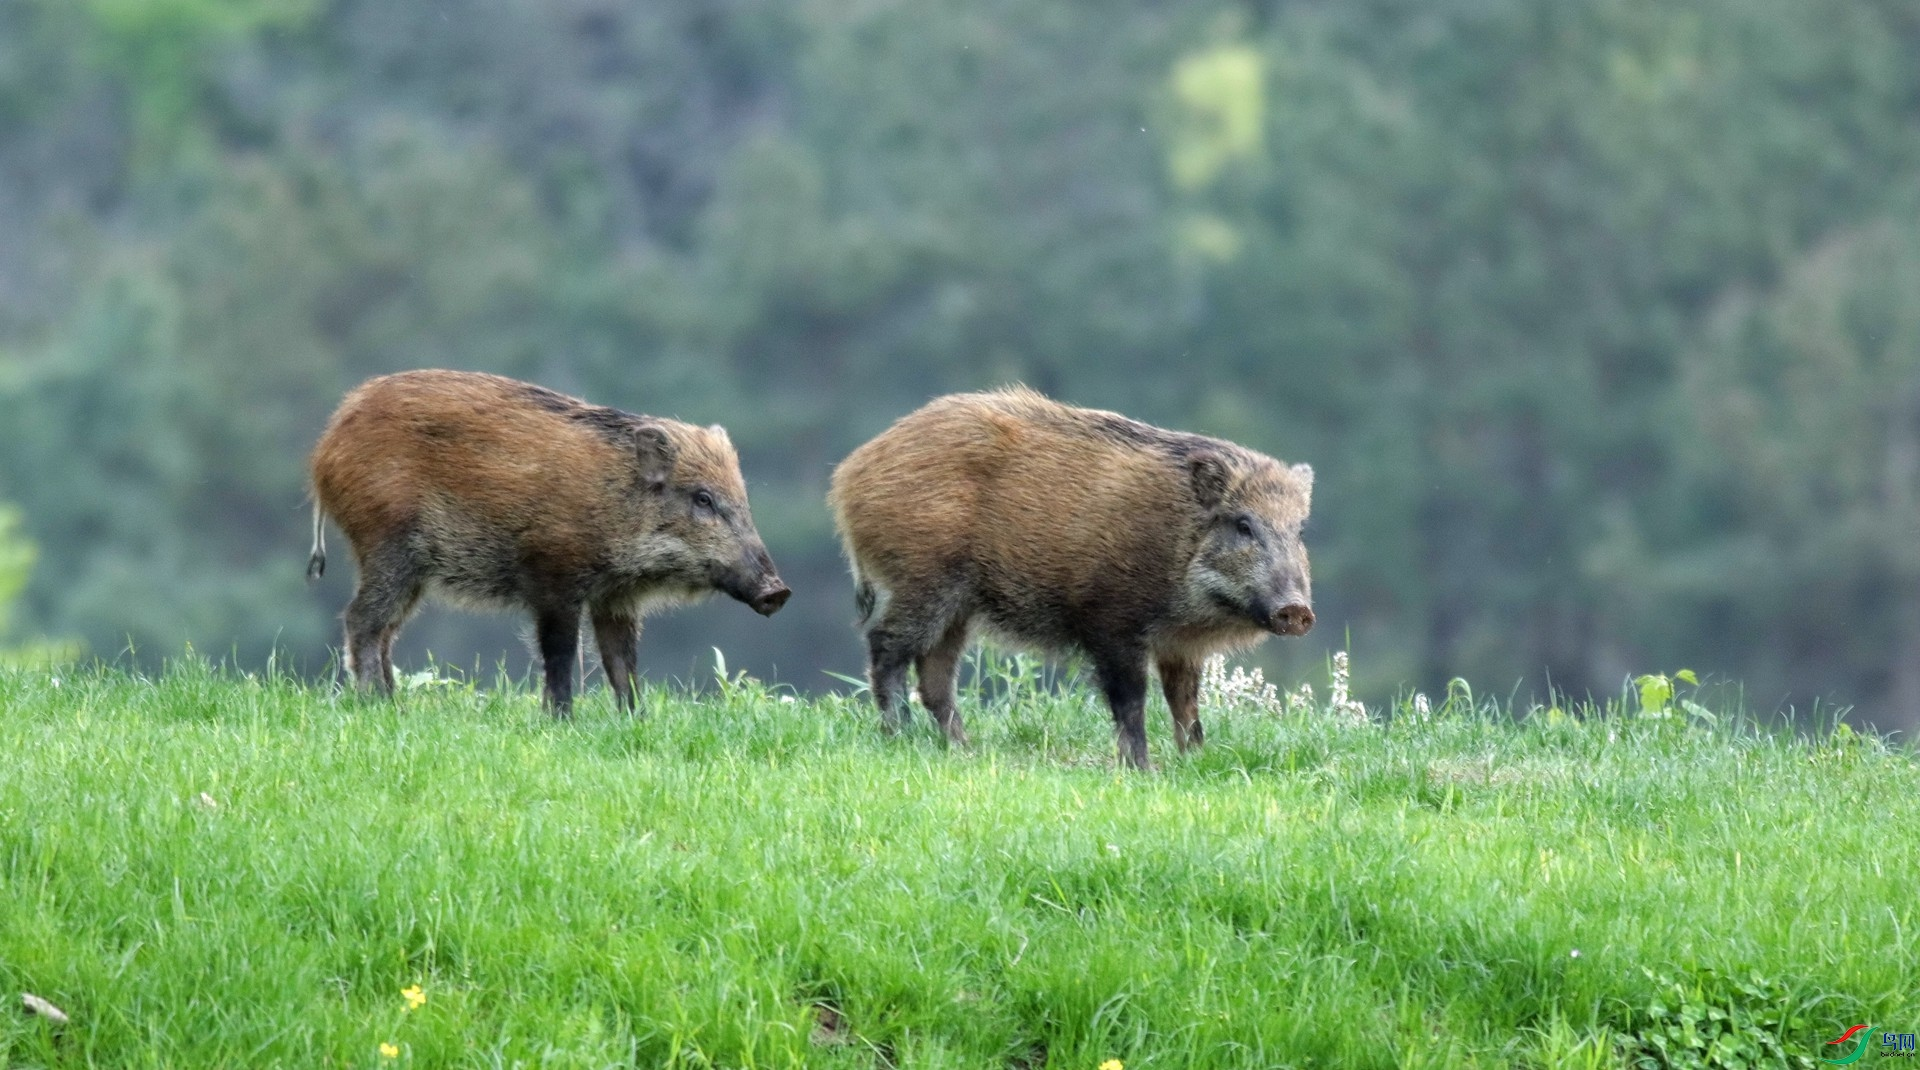boar: (825, 354, 1334, 760), (298, 347, 808, 727)
